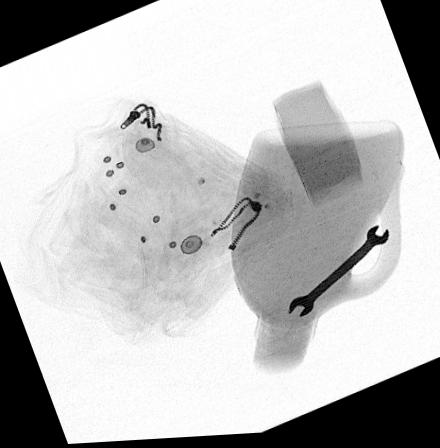Wrench: (286, 228, 389, 321)
